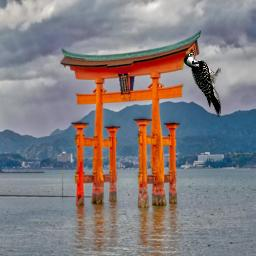Woodpecker: (183, 48, 221, 118)
